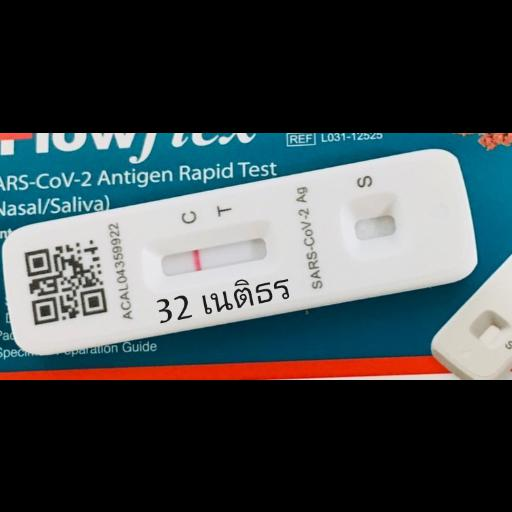Neg: (0, 142, 482, 359)
